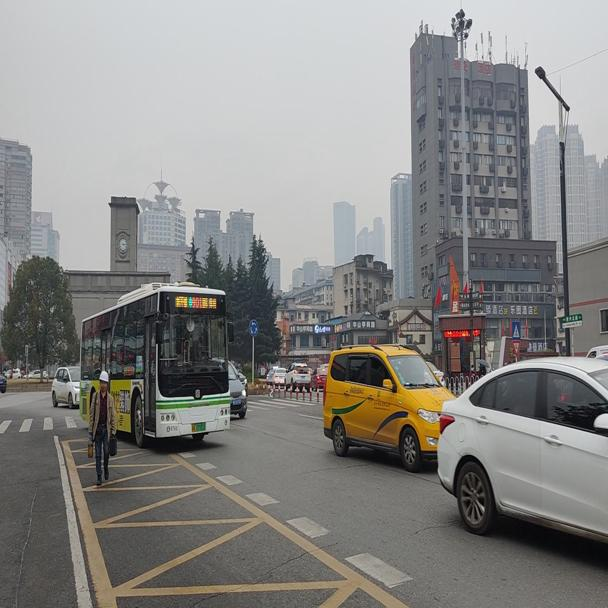bus: (77, 276, 232, 445)
screen: (191, 296, 201, 308)
